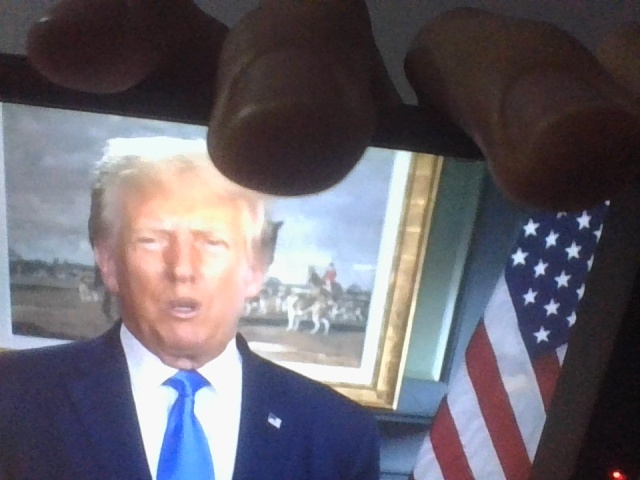fake: (100, 134, 257, 356)
